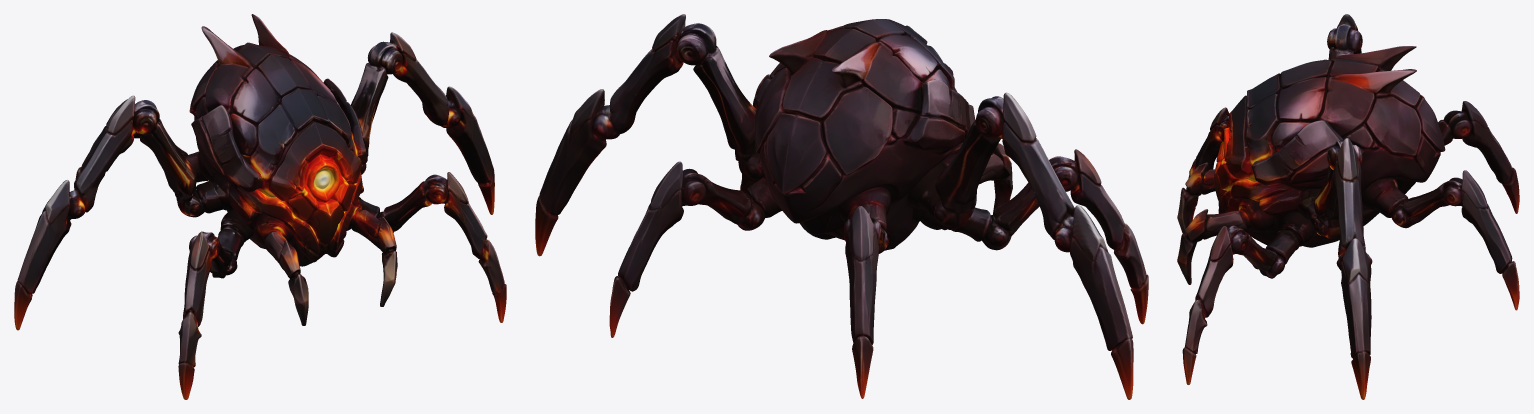
The picture shows the model from 3 angles, left to right: view 1: azimuth 30°, elevation 25°; view 2: azimuth 150°, elevation 25°; view 3: azimuth 270°, elevation 25°; orthographic projection. The views are drawn at different scales.
Parts seen in each view (by area): view 1: tripo_node_49477ab9-cf73-43f0-9f92-bd4aa01b5ba8; view 2: tripo_node_49477ab9-cf73-43f0-9f92-bd4aa01b5ba8; view 3: tripo_node_49477ab9-cf73-43f0-9f92-bd4aa01b5ba8.
Part boxes in pixels (<box>): tripo_node_49477ab9-cf73-43f0-9f92-bd4aa01b5ba8: <box>14,14,506,399</box>; tripo_node_49477ab9-cf73-43f0-9f92-bd4aa01b5ba8: <box>535,14,1148,399</box>; tripo_node_49477ab9-cf73-43f0-9f92-bd4aa01b5ba8: <box>1177,14,1519,399</box>.
Bounding box in the file's own units: 1 × 0.5104 × 0.6302.
Materials: 1 (1 with a texture image).
